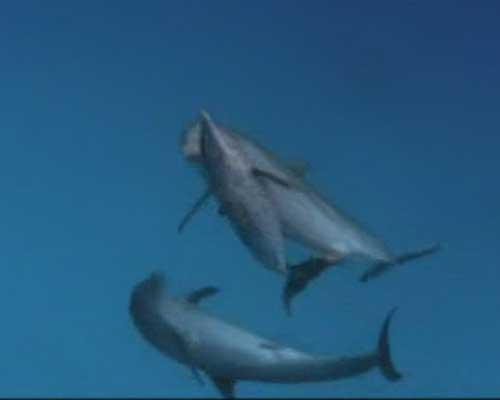fish: (180, 120, 444, 287), (128, 258, 411, 383), (193, 103, 329, 303)
